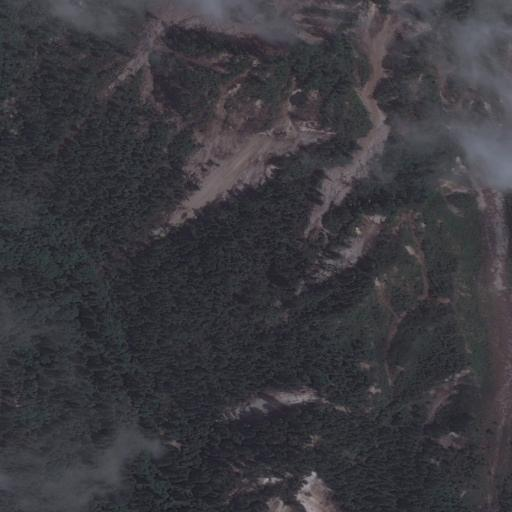landslide: (173, 98, 329, 227)
